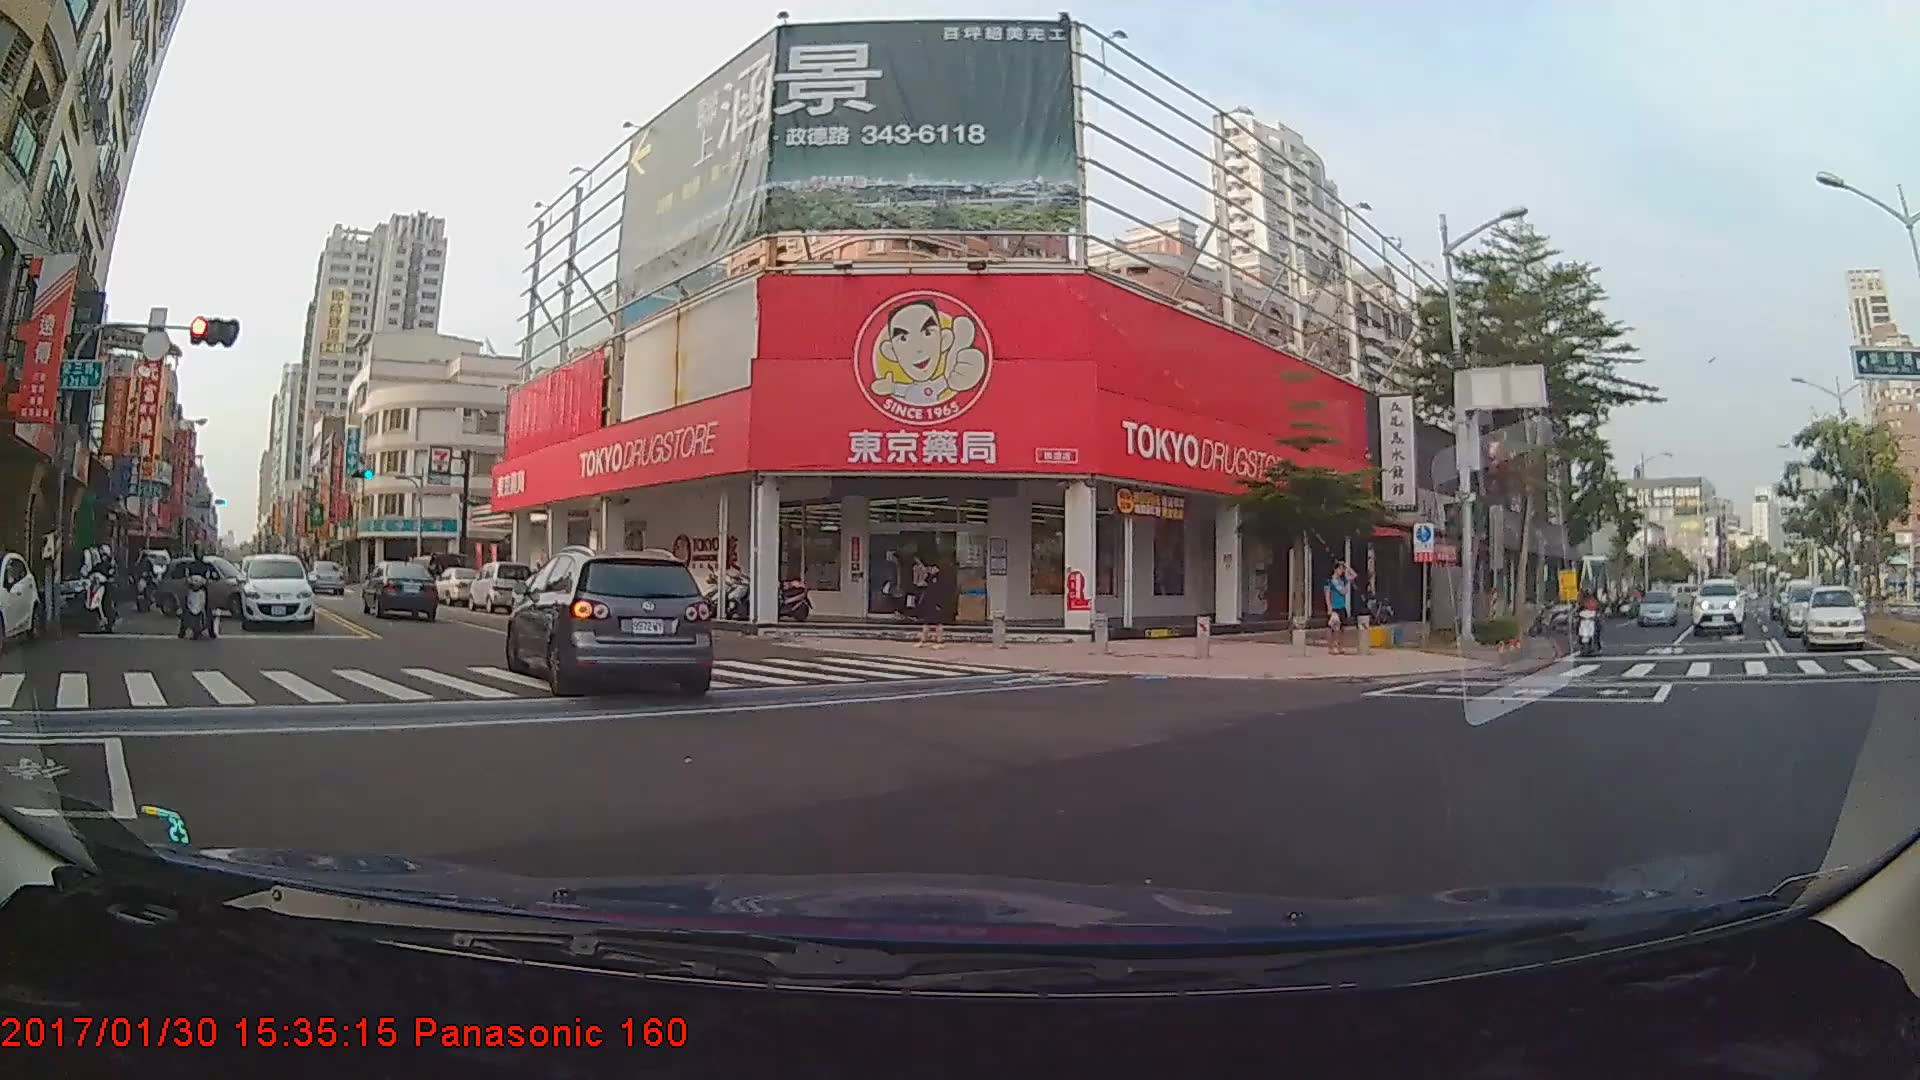pedestrian: (914, 563, 956, 654), (1326, 560, 1361, 662), (882, 551, 912, 627)
rider: (175, 549, 223, 648), (77, 545, 126, 636), (1572, 588, 1610, 657)
vehicle: (509, 547, 714, 695), (153, 555, 259, 617), (236, 556, 315, 634), (363, 559, 437, 620), (1806, 589, 1865, 651), (465, 560, 531, 614), (1784, 581, 1846, 637), (1692, 577, 1744, 635), (428, 566, 488, 605), (1636, 590, 1678, 626)
